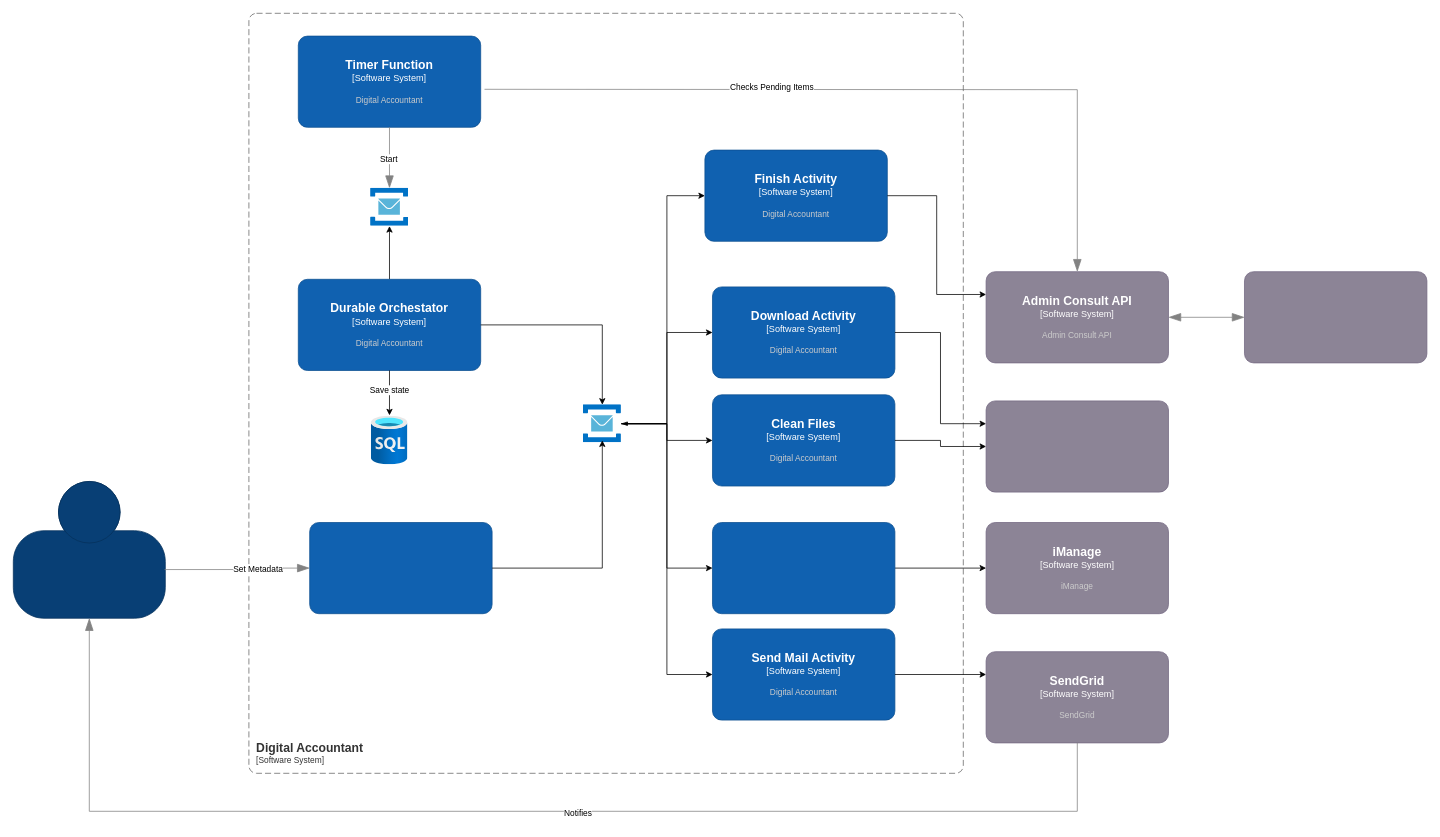
The diagram is 1440 pixels wide and 837 high, and some of its shapes have lost their labels. The box of each missing label's shape, as (x1, y1, x2, y2) in pixels:
Admin Consult [Software System] Admin Consult: (1244, 271, 1427, 363)
Archive Activity [Software System] Digital Accountant: (712, 522, 895, 614)
DA Portal [Software System] Digital Accountant: (309, 522, 492, 614)
Local Support User [Person] Local Support User: (13, 481, 165, 618)
Silverfin [Software System] Silverfin: (985, 400, 1168, 492)
